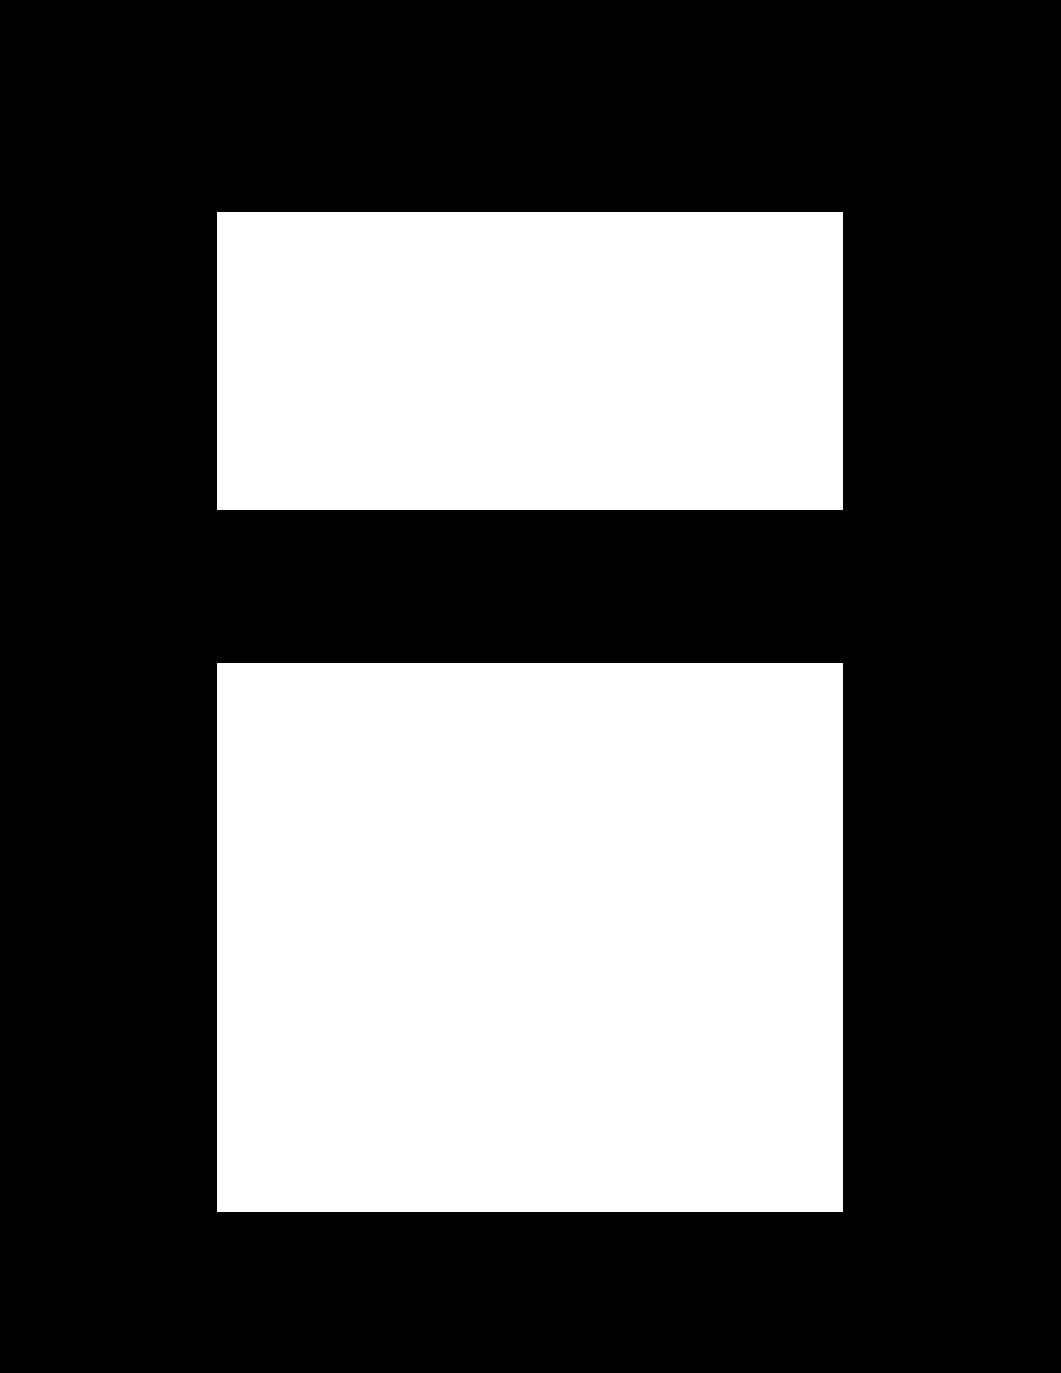table: (217, 663, 841, 1211), (217, 212, 841, 509)
